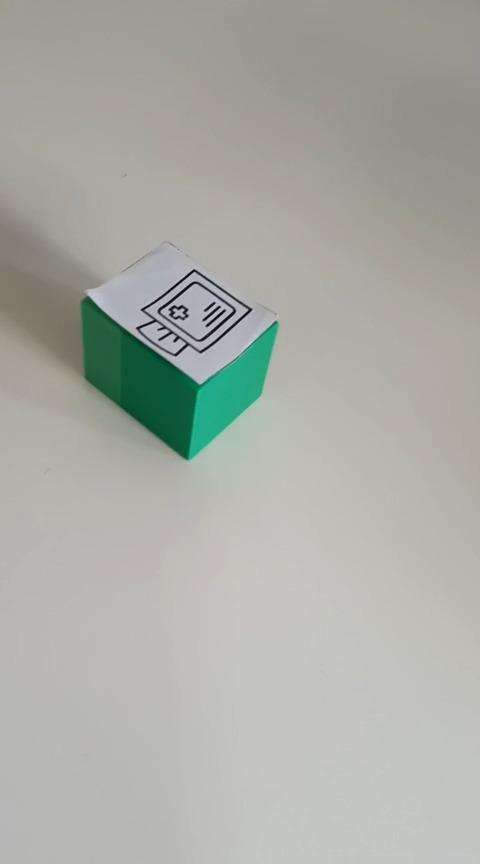Gauze: (79, 239, 279, 461)
